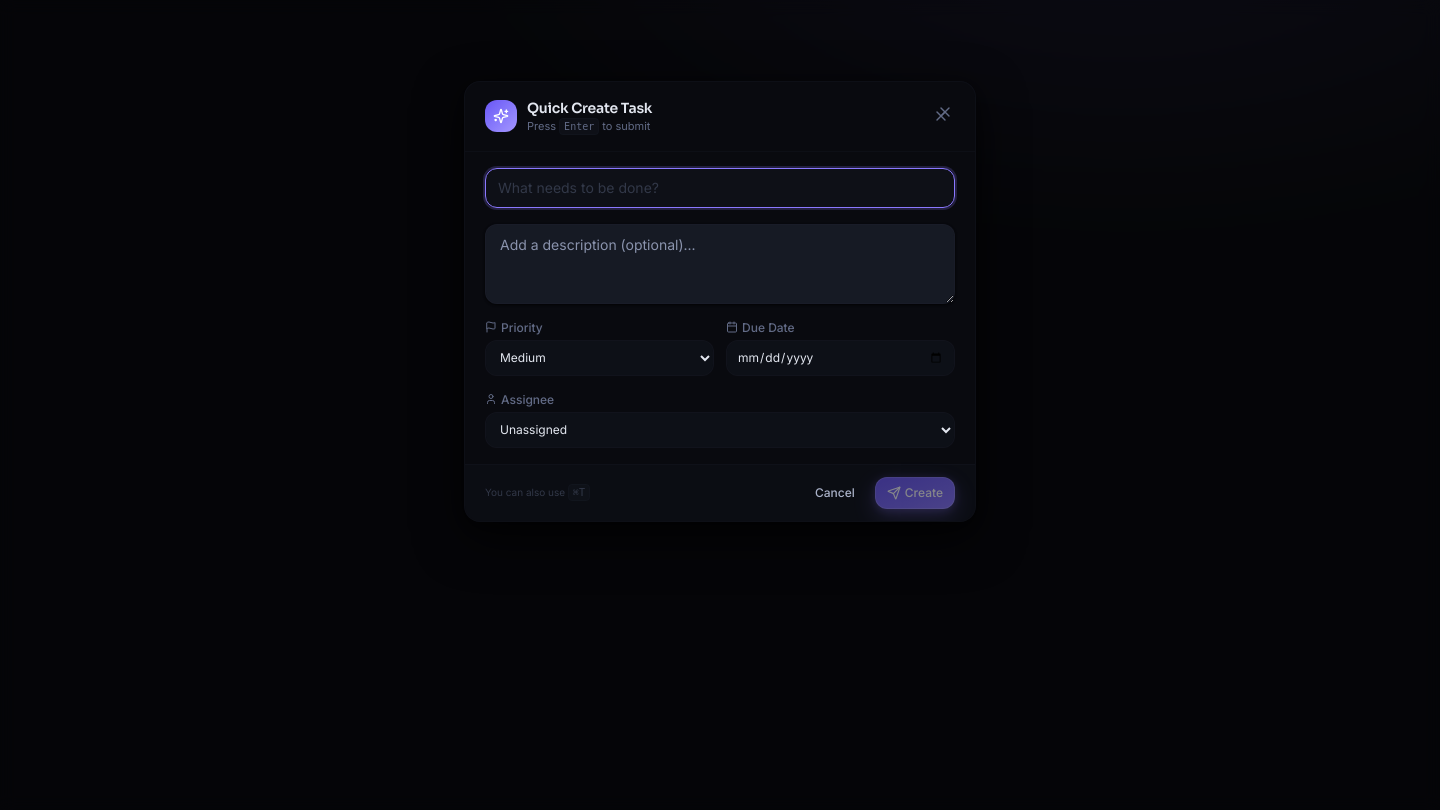
Test case: CreateTaskDialog › enables Create button when title is filled
Type "New task title" into the field with placeholder "What needs to be done?" at (720, 188), box x1=485 y1=168 x2=955 y2=208
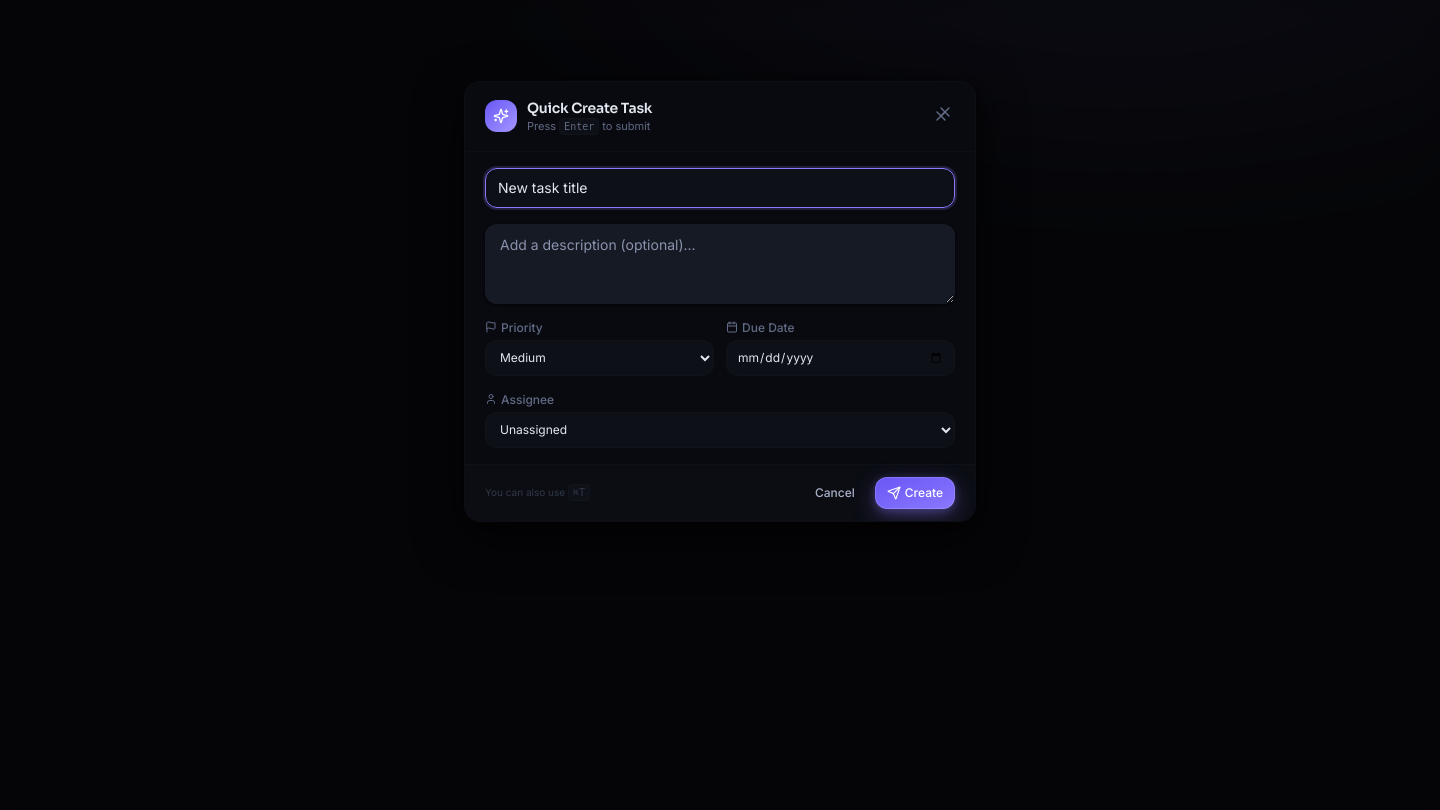
Check: the button "Create" is enabled, box x1=875 y1=476 x2=955 y2=508
